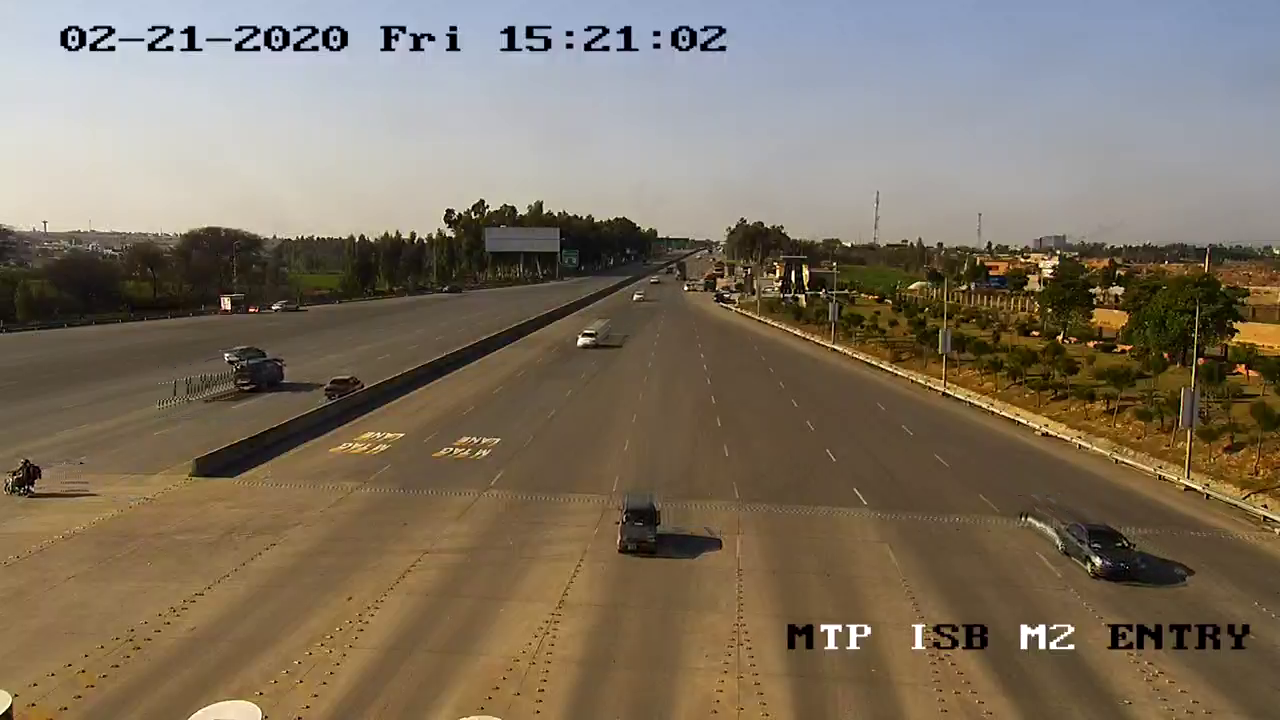f1: (607, 494, 678, 565)
